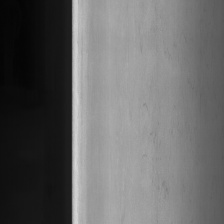silk_spot: (136, 36, 195, 208)
